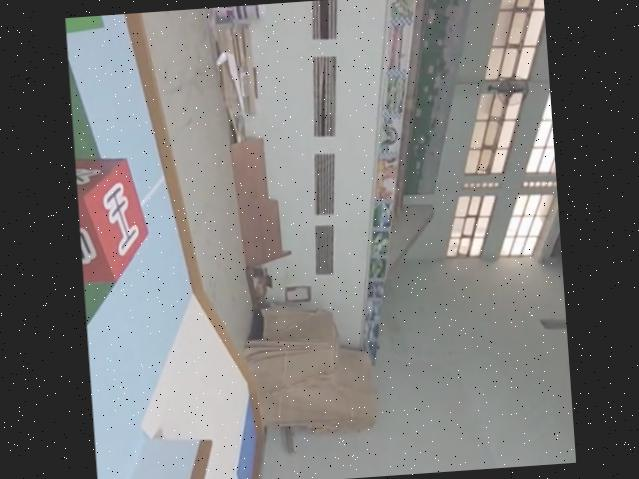R2 Fake: (73, 144, 154, 284)
